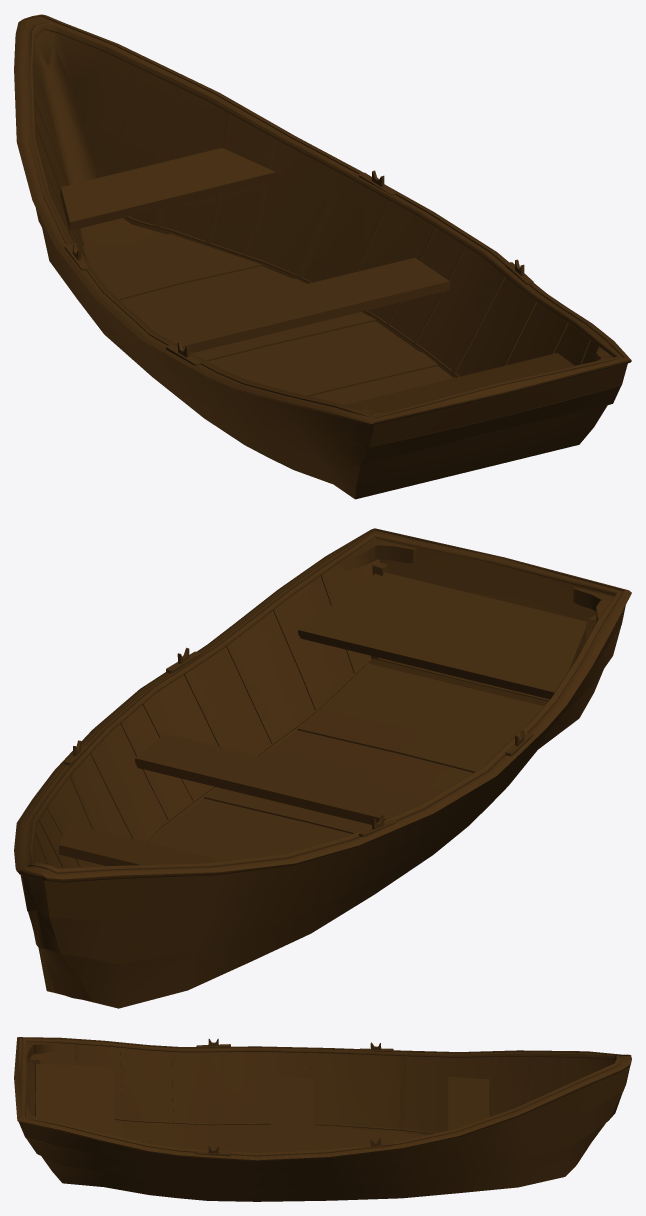
The model's file is boat.fbx.
3 renders of one model, top to bottom at view 1: azimuth 30°, elevation 25°; view 2: azimuth 150°, elevation 25°; view 3: azimuth 270°, elevation 25°, orthographic. The views are drawn at different scales.
Parts seen in each view (by area): view 1: boat.001; view 2: boat.001; view 3: boat.001.
Boxes of the visible parts, x1=… form: boat.001: x1=14, y1=14, x2=631, y2=499; boat.001: x1=14, y1=528, x2=631, y2=1008; boat.001: x1=14, y1=1037, x2=631, y2=1201.
Size of the model in its own units: 415 by 183 by 951.
